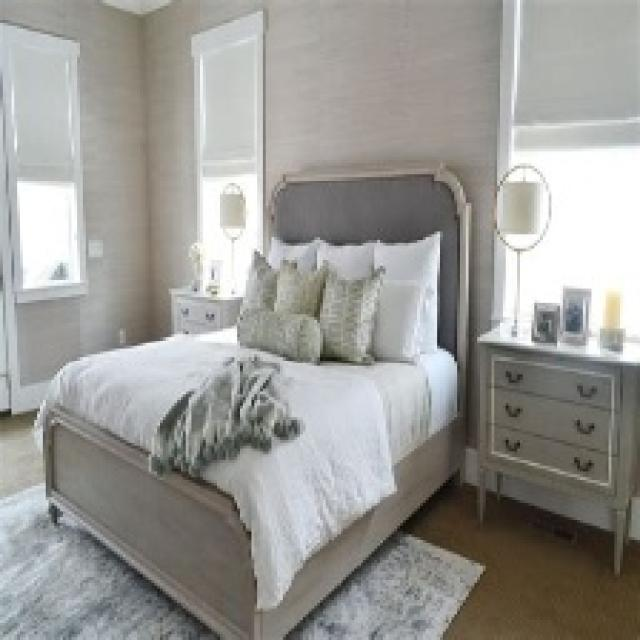Bed: (31, 160, 472, 637)
